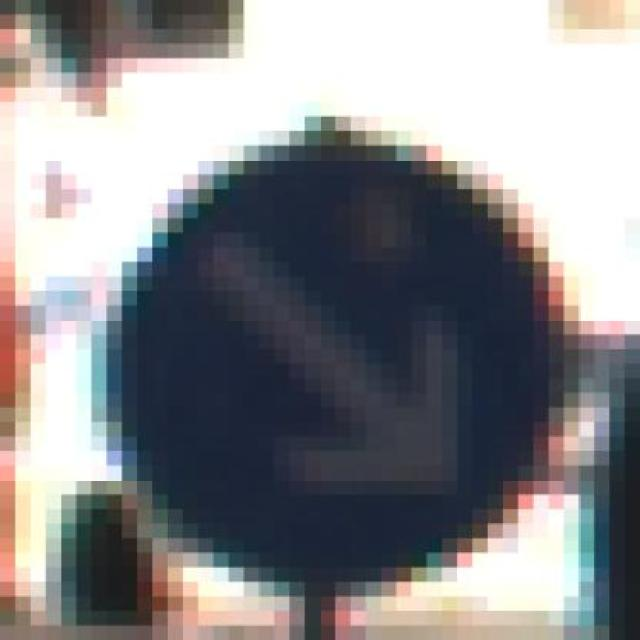Keep-Right: (107, 87, 579, 611)
